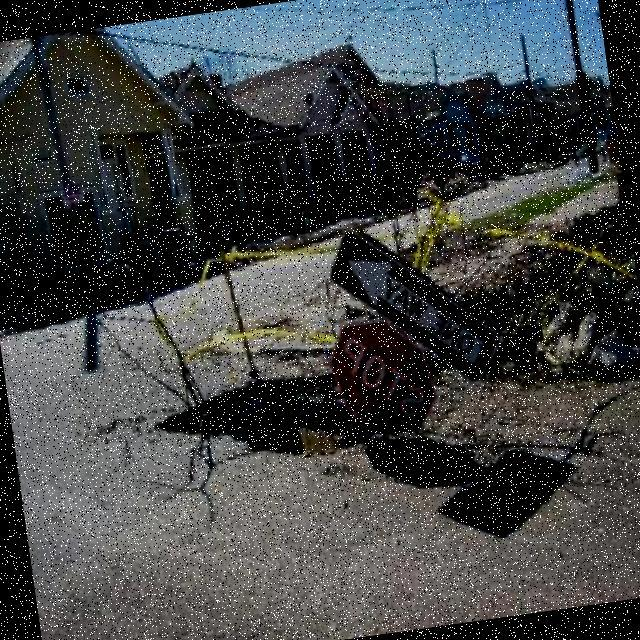Pothole: (154, 375, 377, 454)
